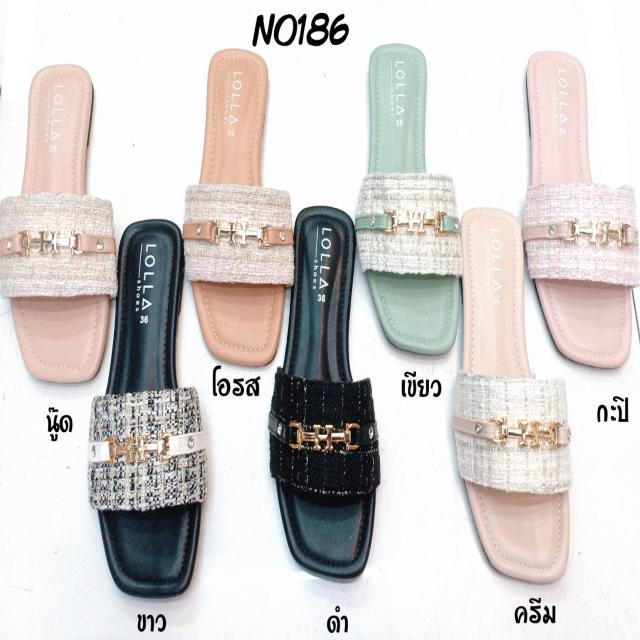black: (273, 203, 383, 576)
cream: (445, 208, 578, 587)
green: (362, 45, 459, 357)
kapi: (516, 51, 635, 371)
nood: (2, 70, 110, 383)
orot: (183, 45, 284, 368)
white: (91, 221, 210, 599)
